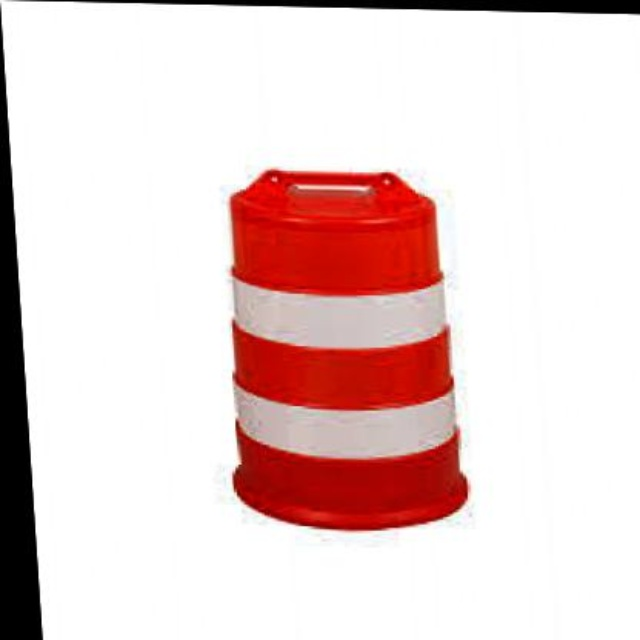obstacle: (180, 156, 476, 538)
